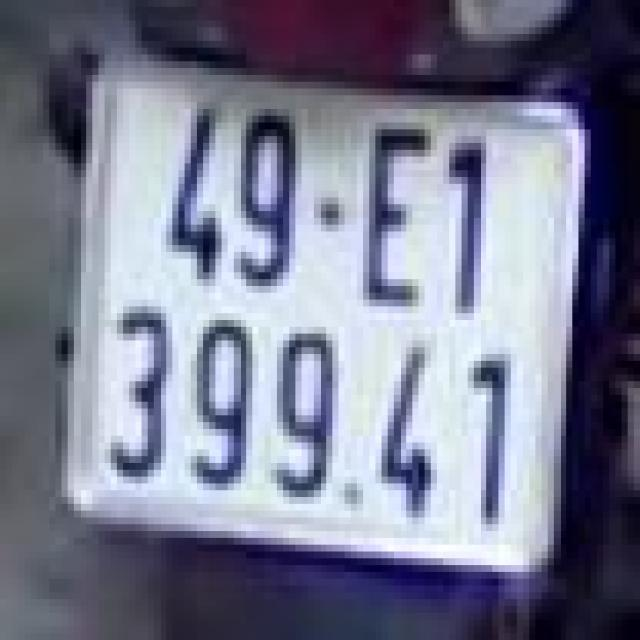1: (434, 122, 495, 327), (468, 340, 517, 545)
3: (101, 296, 188, 480)
4: (363, 317, 449, 541), (160, 92, 228, 296)
9: (228, 92, 302, 303), (270, 313, 344, 511), (178, 303, 252, 494)
E: (348, 102, 434, 320)
